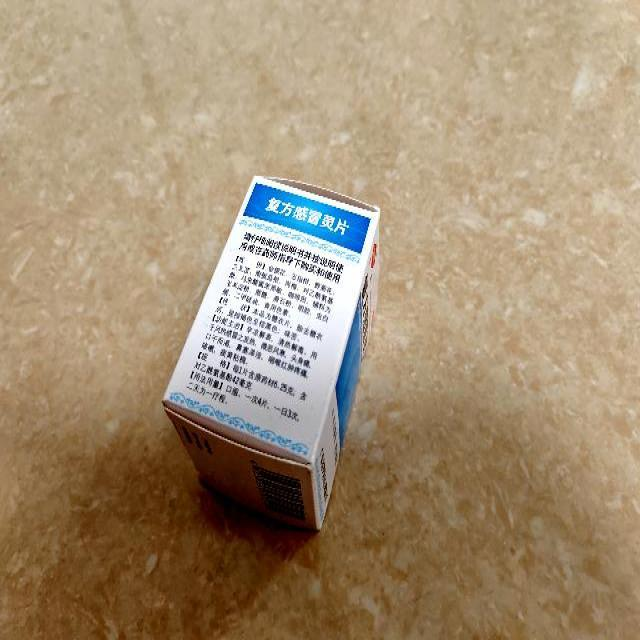box: (162, 174, 380, 534)
